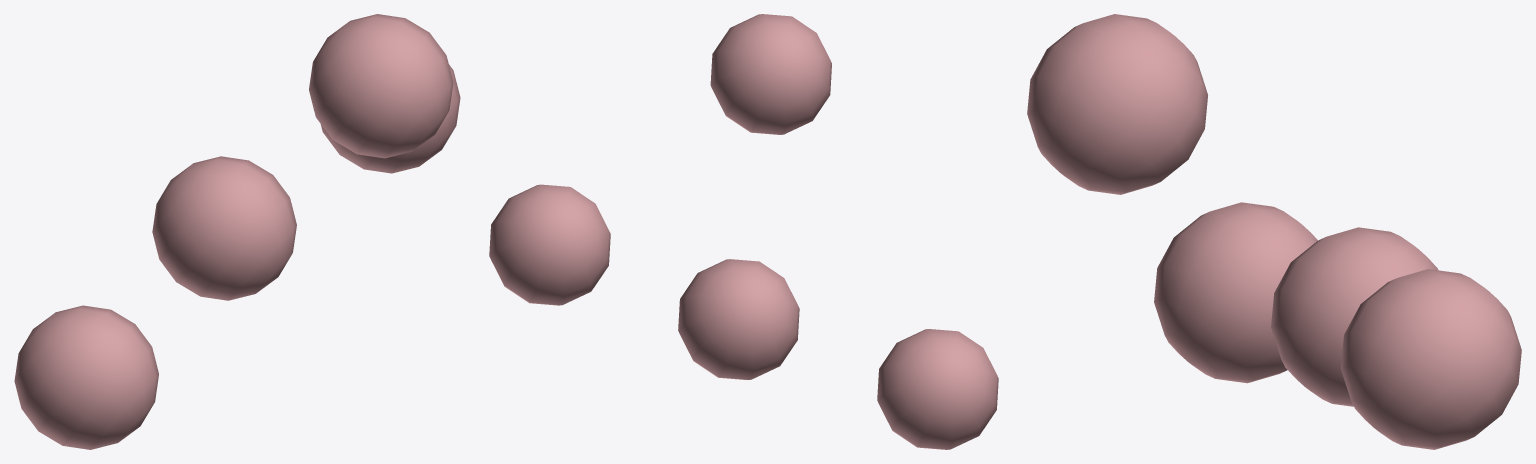
The picture shows the model from 3 angles, left to right: view 1: azimuth 30°, elevation 25°; view 2: azimuth 150°, elevation 25°; view 3: azimuth 270°, elevation 25°; orthographic projection. The views are drawn at different scales.
Visible parts, largest first — view 1: ZA_128de976d8774173; view 2: ZA_128de976d8774173; view 3: ZA_128de976d8774173.
Boxes of the visible parts, <box> form: ZA_128de976d8774173: <box>14,14,460,449</box>; ZA_128de976d8774173: <box>489,14,998,449</box>; ZA_128de976d8774173: <box>1027,14,1521,449</box>.
Bounding box in the file's own units: 0.0104 × 0.00789 × 0.00707.
